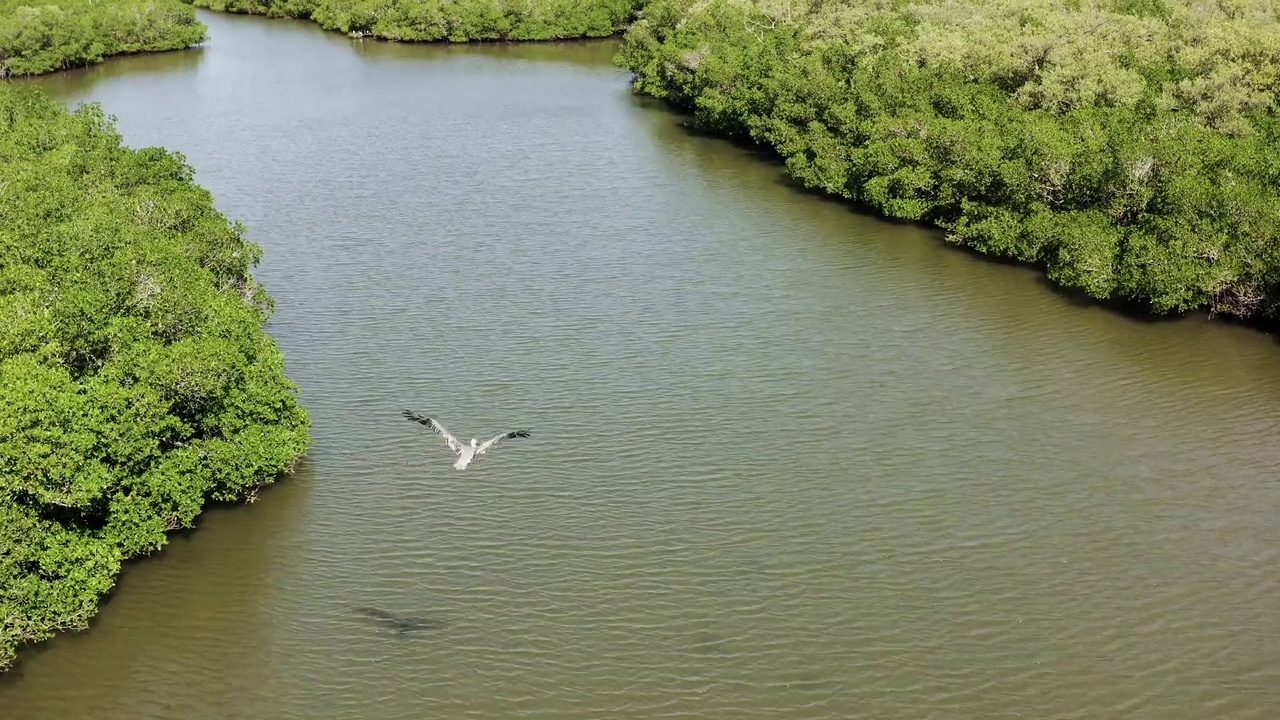bird: (404, 408, 530, 475)
